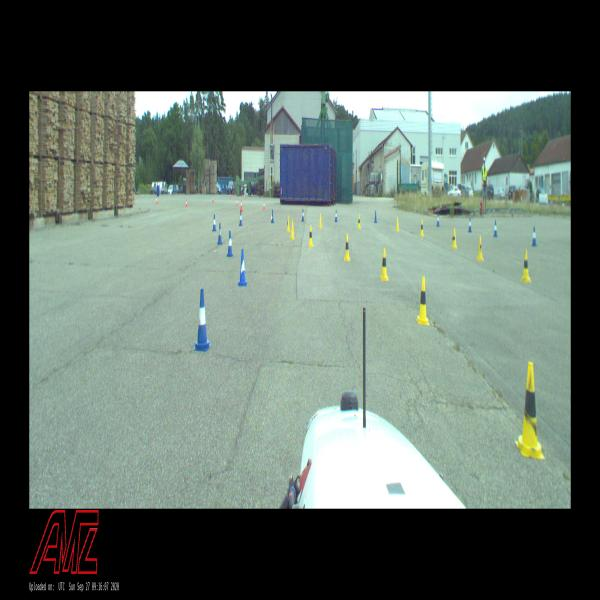blue_cone: (195, 289, 209, 350), (238, 249, 247, 285), (227, 231, 233, 256), (218, 223, 222, 244), (532, 226, 536, 245), (212, 214, 216, 231), (468, 217, 472, 232), (494, 220, 497, 237), (271, 209, 274, 223), (436, 214, 439, 226), (374, 211, 377, 222), (240, 212, 242, 226), (335, 209, 337, 222), (302, 209, 304, 221)
orange_cone: (240, 200, 243, 212), (263, 200, 265, 210), (236, 199, 238, 206), (212, 196, 214, 202), (244, 195, 246, 200), (186, 199, 187, 207), (156, 196, 157, 204), (230, 192, 231, 199)
yellow_cone: (518, 363, 542, 457), (417, 277, 428, 324), (522, 250, 530, 282), (381, 248, 388, 280), (344, 234, 350, 261), (477, 236, 483, 261), (308, 225, 313, 247), (452, 228, 457, 248), (290, 221, 294, 239), (420, 220, 424, 236), (287, 216, 290, 231), (319, 214, 322, 228), (396, 217, 399, 231), (358, 214, 360, 229)
